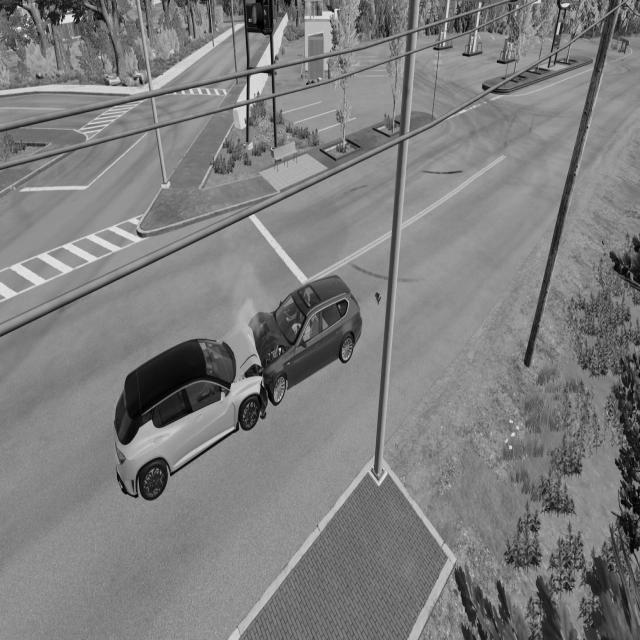accident: (112, 260, 365, 508)
